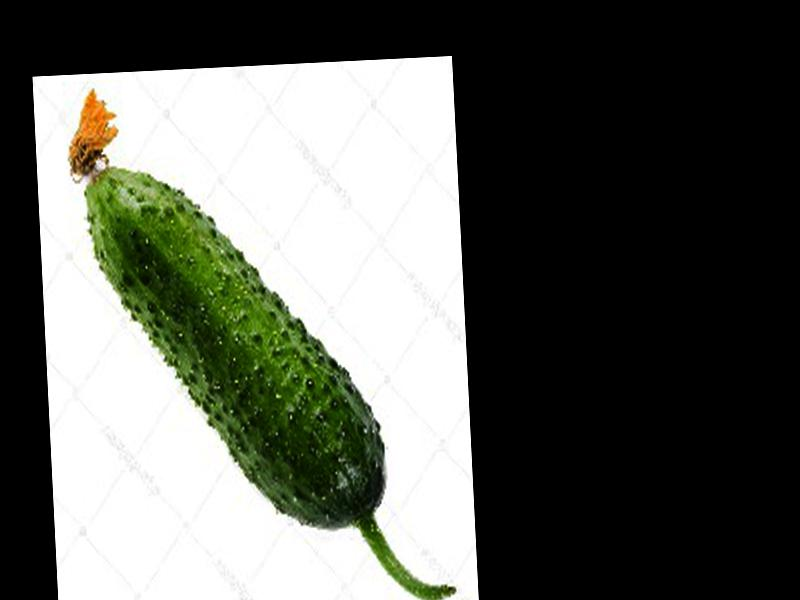Cucumber: (64, 71, 453, 600)
